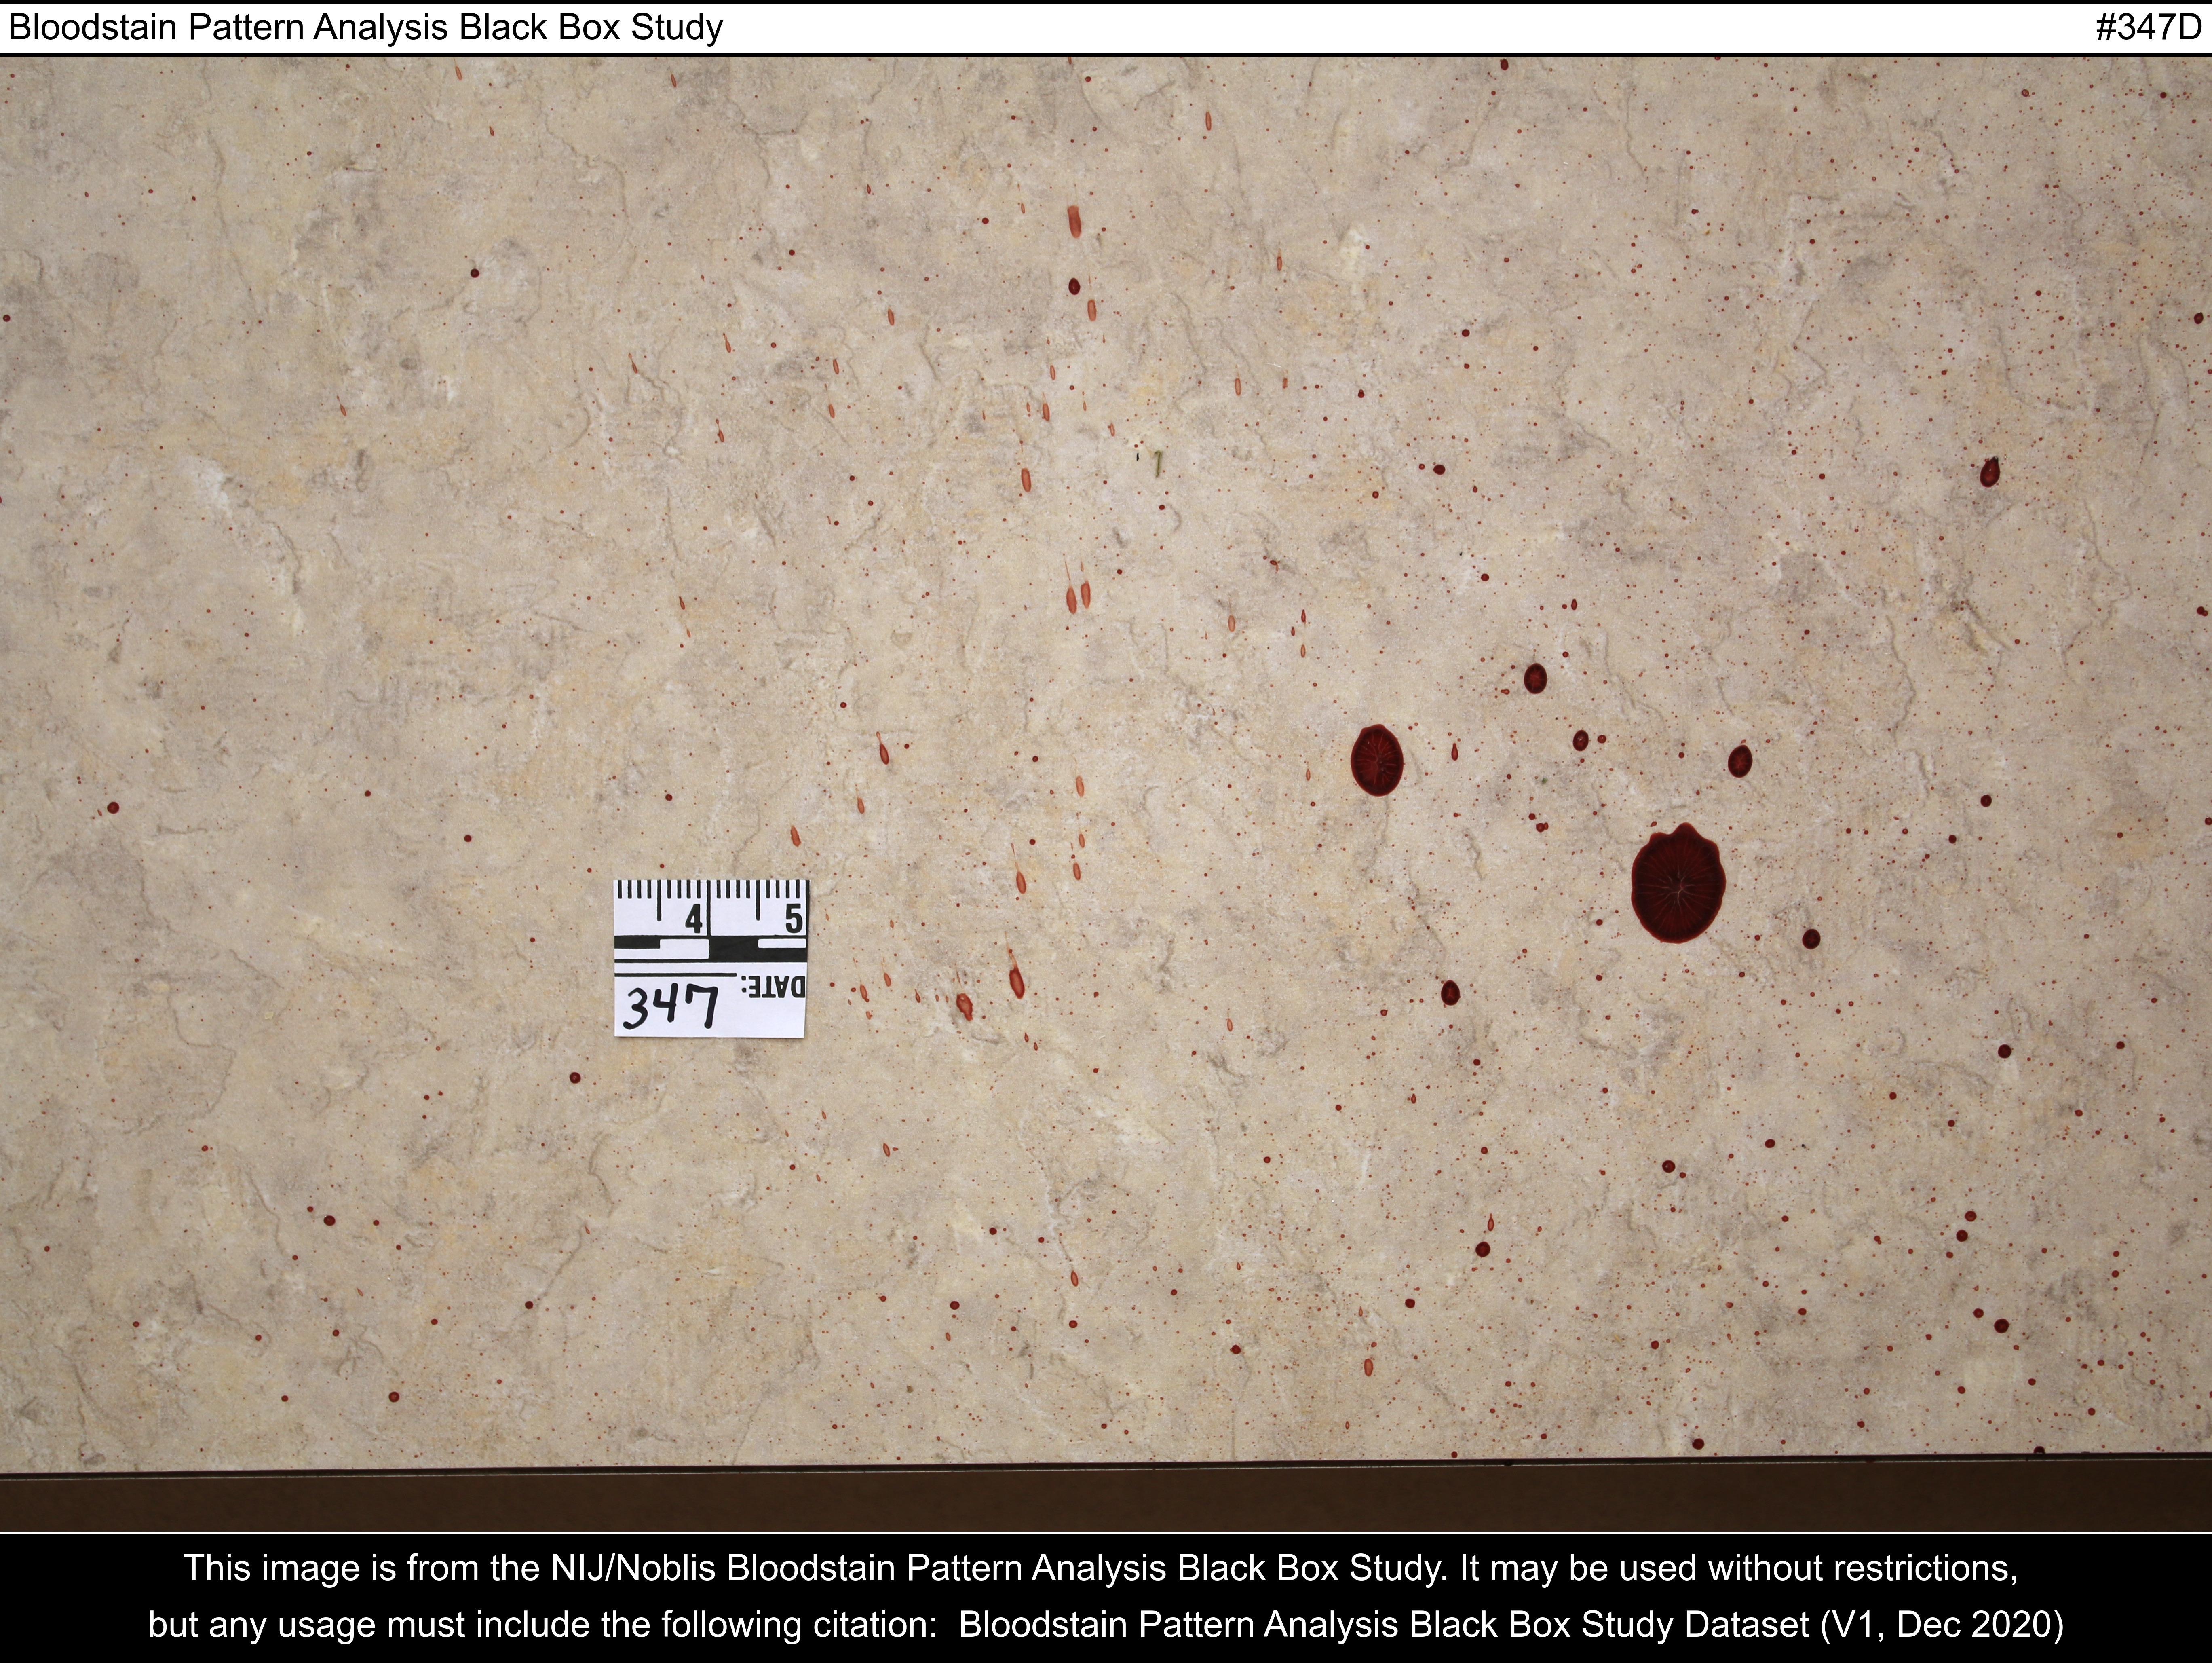Impact: (1344, 716, 1772, 964)
